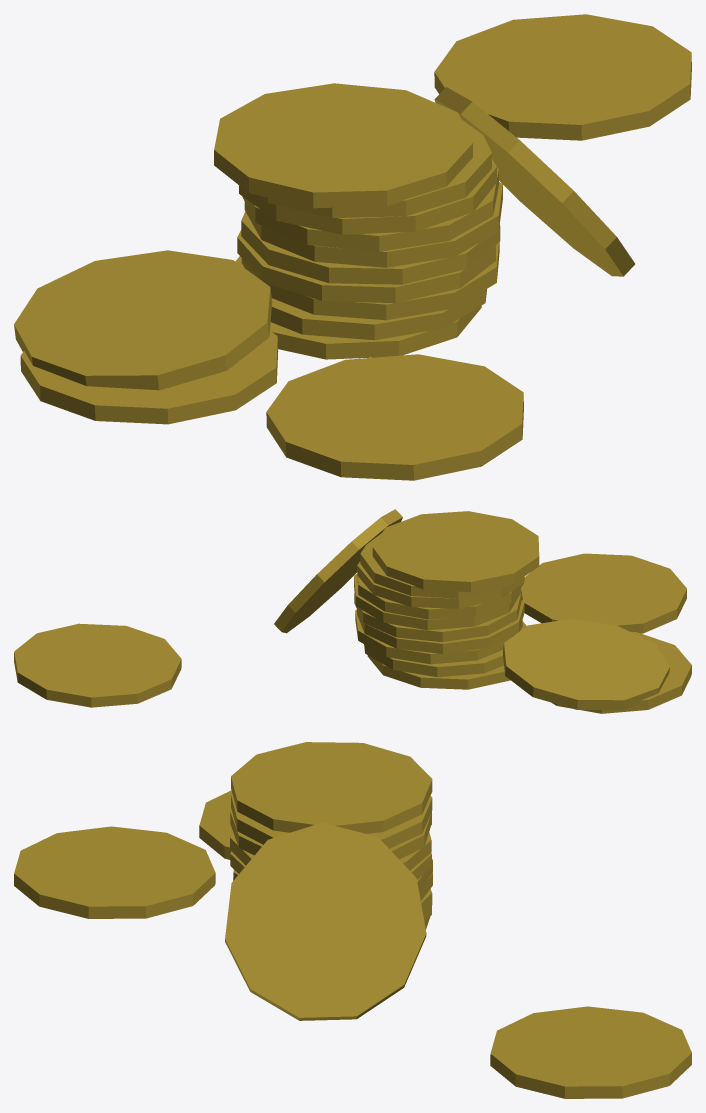
File: coins01.fbx
3 views of the same model, one above another, from view 1: azimuth 30°, elevation 25°; view 2: azimuth 150°, elevation 25°; view 3: azimuth 270°, elevation 25° (orthographic). The views are drawn at different scales.
Visible parts, largest first — view 1: pCylinder10, pCylinder13, pCylinder14, pCylinder15, pCylinder11, pCylinder12, pCylinder5, pCylinder4, pCylinder6, pCylinder7, pCylinder8, pCylinder2 (+3 smaller); view 2: pCylinder10, pCylinder15, pCylinder14, pCylinder13, pCylinder12, pCylinder4, pCylinder5, pCylinder11, pCylinder6, pCylinder8, pCylinder7, pCylinder2 (+3 smaller); view 3: pCylinder12, pCylinder13, pCylinder15, pCylinder14, pCylinder9, pCylinder11, pCylinder8, pCylinder7.
Boxes of the visible parts, bbox=[...] form: pCylinder10: bbox=[14, 250, 272, 390]; pCylinder13: bbox=[266, 354, 523, 480]; pCylinder14: bbox=[214, 83, 472, 208]; pCylinder15: bbox=[434, 14, 691, 140]; pCylinder11: bbox=[20, 331, 278, 424]; pCylinder12: bbox=[434, 87, 634, 276]; pCylinder5: bbox=[241, 211, 500, 284]; pCylinder4: bbox=[237, 230, 495, 303]; pCylinder6: bbox=[244, 182, 502, 267]; pCylinder7: bbox=[242, 168, 498, 251]; pCylinder8: bbox=[239, 159, 496, 234]; pCylinder2: bbox=[235, 256, 486, 340]; pCylinder10: bbox=[503, 619, 669, 709]; pCylinder15: bbox=[14, 623, 181, 707]; pCylinder14: bbox=[372, 511, 539, 592]; pCylinder13: bbox=[521, 553, 686, 633]; pCylinder12: bbox=[274, 509, 402, 633]; pCylinder4: bbox=[357, 600, 524, 653]; pCylinder5: bbox=[354, 589, 521, 642]; pCylinder11: bbox=[551, 631, 691, 713]; pCylinder6: bbox=[354, 574, 520, 630]; pCylinder8: bbox=[357, 561, 524, 608]; pCylinder7: bbox=[357, 564, 523, 619]; pCylinder2: bbox=[364, 621, 526, 677]; pCylinder12: bbox=[225, 822, 426, 1020]; pCylinder13: bbox=[14, 826, 215, 918]; pCylinder15: bbox=[490, 1006, 691, 1098]; pCylinder14: bbox=[231, 742, 432, 833]; pCylinder9: bbox=[231, 794, 432, 848]; pCylinder11: bbox=[199, 790, 232, 859]; pCylinder8: bbox=[230, 810, 431, 859]; pCylinder7: bbox=[230, 831, 431, 870].
Bounding box in the file's own units: 24.12 × 5.43 × 22.09.
